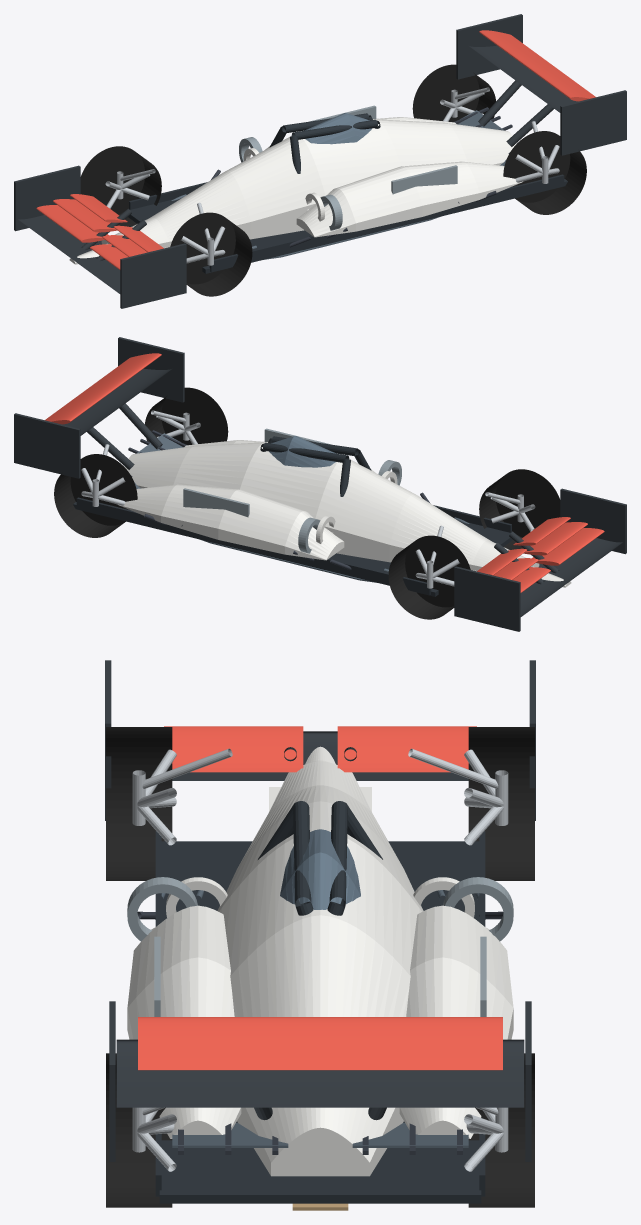
The model's file is V6_FULL_SCALE_CFD_PREVIEW.glb.
The picture shows the model from 3 angles, top to bottom: view 1: azimuth 30°, elevation 25°; view 2: azimuth 150°, elevation 25°; view 3: azimuth 270°, elevation 25°; orthographic projection. The views are drawn at different scales.
Visible parts, largest first — view 1: body, sidepods, rearWing, frontWing, floor, frontFlaps, wheelFL, wheelRL, wheelFR, suspension, wheelRR, cooling (+5 smaller); view 2: body, sidepods, rearWing, frontWing, floor, frontFlaps, wheelFR, wheelRR, wheelFL, suspension, wheelRL, cooling (+5 smaller); view 3: body, sidepods, floor, rearFlap, rearWing, frontFlaps, suspension, wheelFL, wheelFR, cooling, frontWing, wheelRR (+5 smaller).
Boxes of the visible parts, x1,y1,x2,y2 form: body: (101, 119, 516, 248); sidepods: (243, 117, 522, 237); rearWing: (456, 14, 626, 155); frontWing: (14, 165, 186, 308); floor: (128, 122, 567, 273); frontFlaps: (36, 194, 163, 269); wheelFL: (170, 212, 252, 296); wheelRL: (503, 131, 586, 214); wheelFR: (80, 146, 161, 226); suspension: (105, 87, 559, 265); wheelRR: (412, 64, 495, 122); cooling: (239, 105, 457, 230); body: (124, 442, 539, 571); sidepods: (118, 440, 397, 560); rearWing: (14, 337, 184, 478); frontWing: (454, 488, 626, 631); floor: (73, 445, 512, 596); frontFlaps: (477, 517, 604, 592); wheelFR: (388, 535, 470, 619); wheelRR: (54, 454, 137, 537); wheelFL: (479, 469, 560, 549); suspension: (81, 410, 535, 588); wheelRL: (145, 387, 228, 445); cooling: (183, 428, 401, 553); body: (217, 761, 423, 1176); sidepods: (127, 877, 513, 1138); floor: (155, 831, 485, 1203); rearFlap: (138, 1017, 502, 1070); rearWing: (109, 1001, 531, 1161); frontFlaps: (164, 726, 476, 772); suspension: (132, 748, 508, 1171); wheelFL: (106, 727, 172, 880); wheelFR: (468, 727, 534, 880); cooling: (127, 877, 513, 1016); frontWing: (105, 660, 535, 820); wheelRR: (468, 1053, 534, 1207).
Size of the model in its own units: 5.45 by 1.07 by 2.01.
